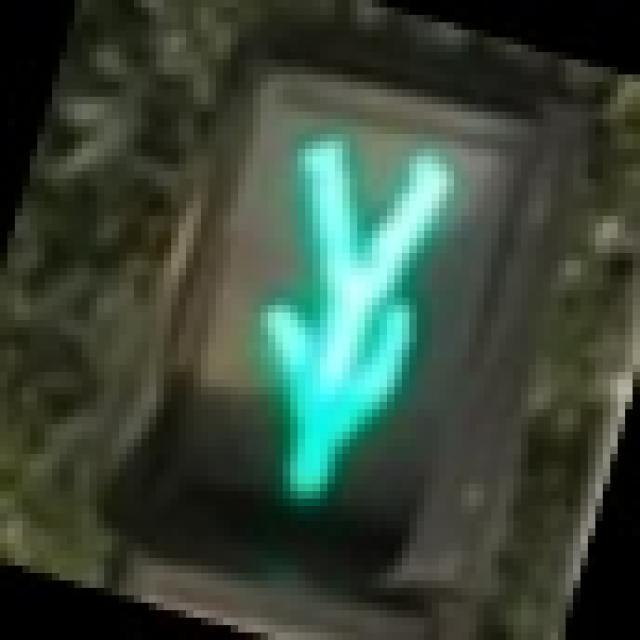geen-crossing: (134, 67, 484, 551)
